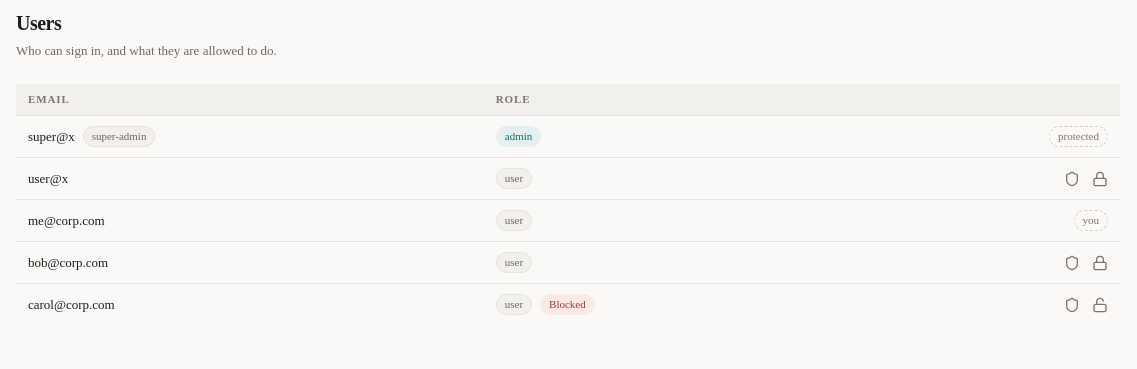
Test: UsersManager › surfaces a rejected change instead of doing nothing
Click the button named "Make bob@corp.com an admin" at (1072,262), box [1064,254,1080,270]
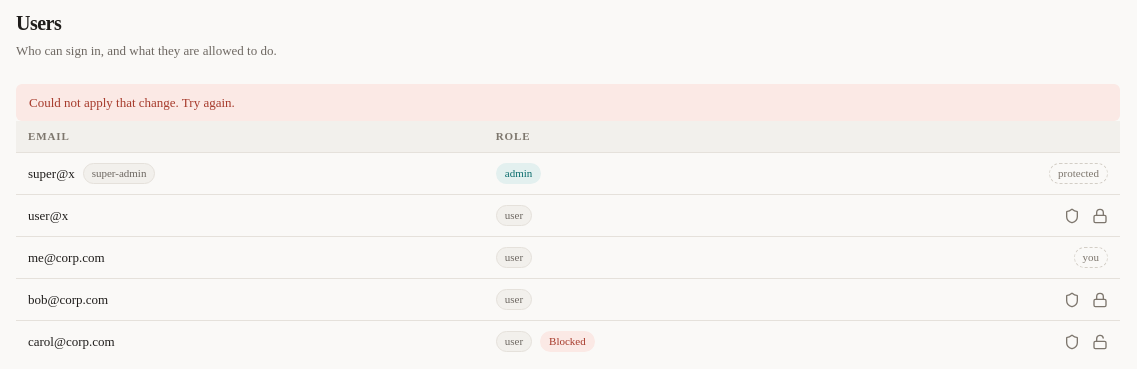
Expected: the message shows "Could not", [29,95,235,110]
